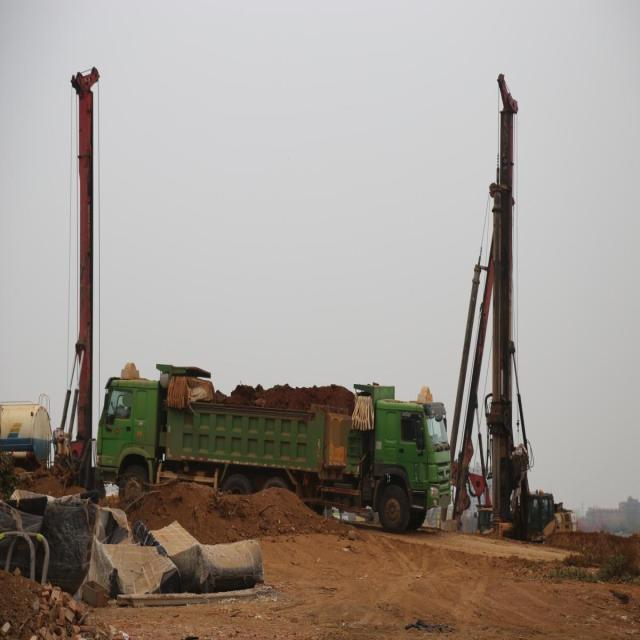truck: (90, 357, 354, 520), (317, 363, 456, 540)
